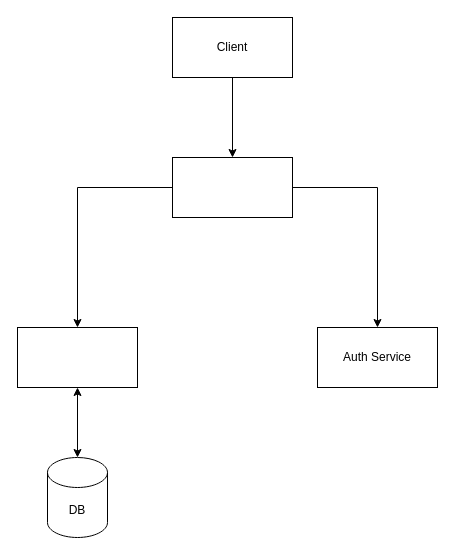
Image size: 455x555. Some labels were removed from this diagram. The shapes that lost their labels are listed below. From the top down, each one's centre as x and y in pixels, then its label:
At point 232,187: "Gateway".
At point 77,357: "Forum Service".
